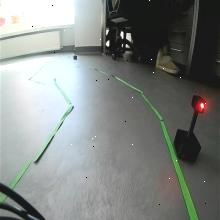red: (191, 94, 206, 113)
